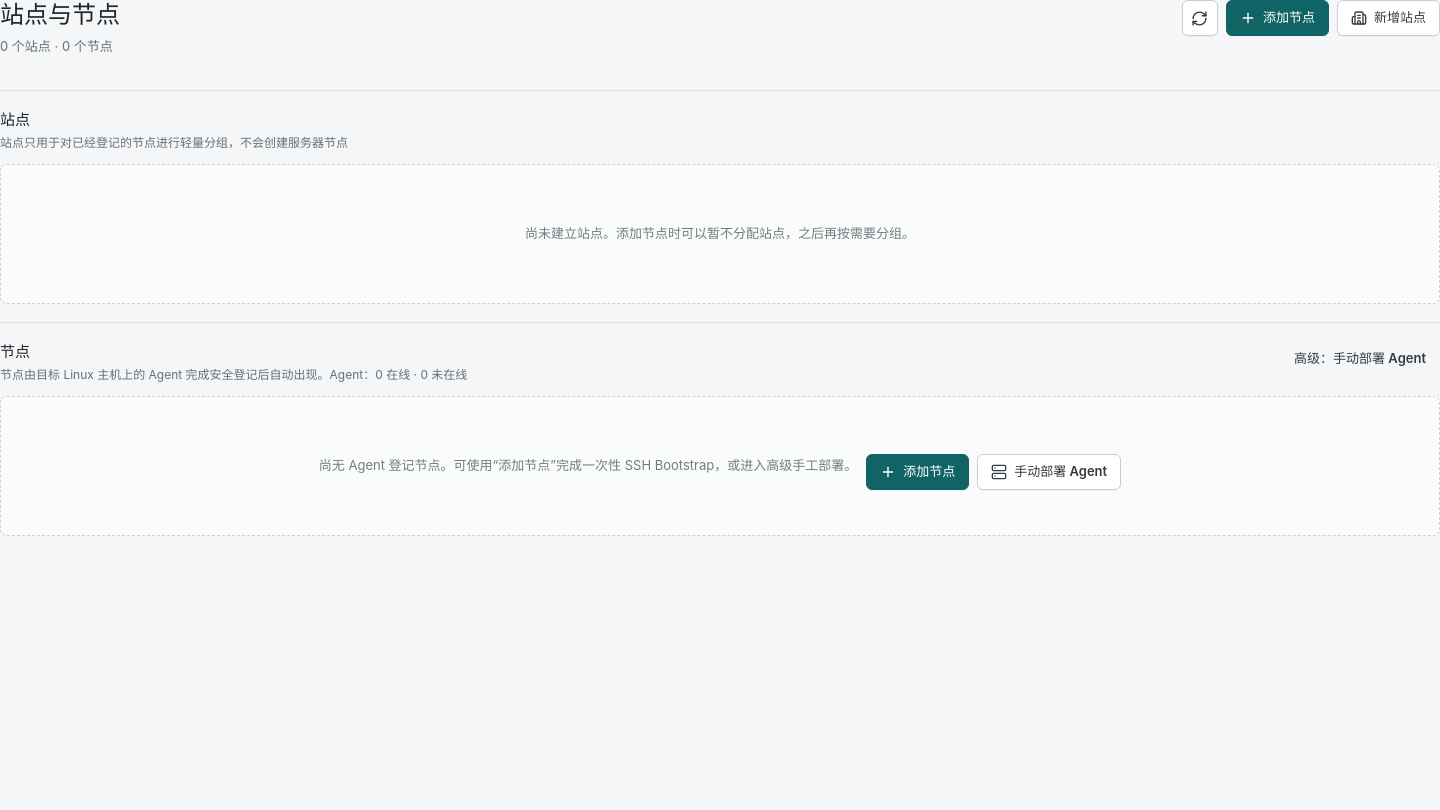
Test: NodesPage node onboarding › uses Add Node as the primary bootstrap path while preserving manual deployment
Expected: the text "尚无 Agent 登记节点。可使用“添加节点”完成一次性 SSH Bootstrap，或进入高级手工部署。" is shown, x1=319 y1=456 x2=857 y2=476
Step 1. Click the button "添加节点" in the row of "站点与节点" → (1278, 18), box x1=1226 y1=0 x2=1329 y2=36
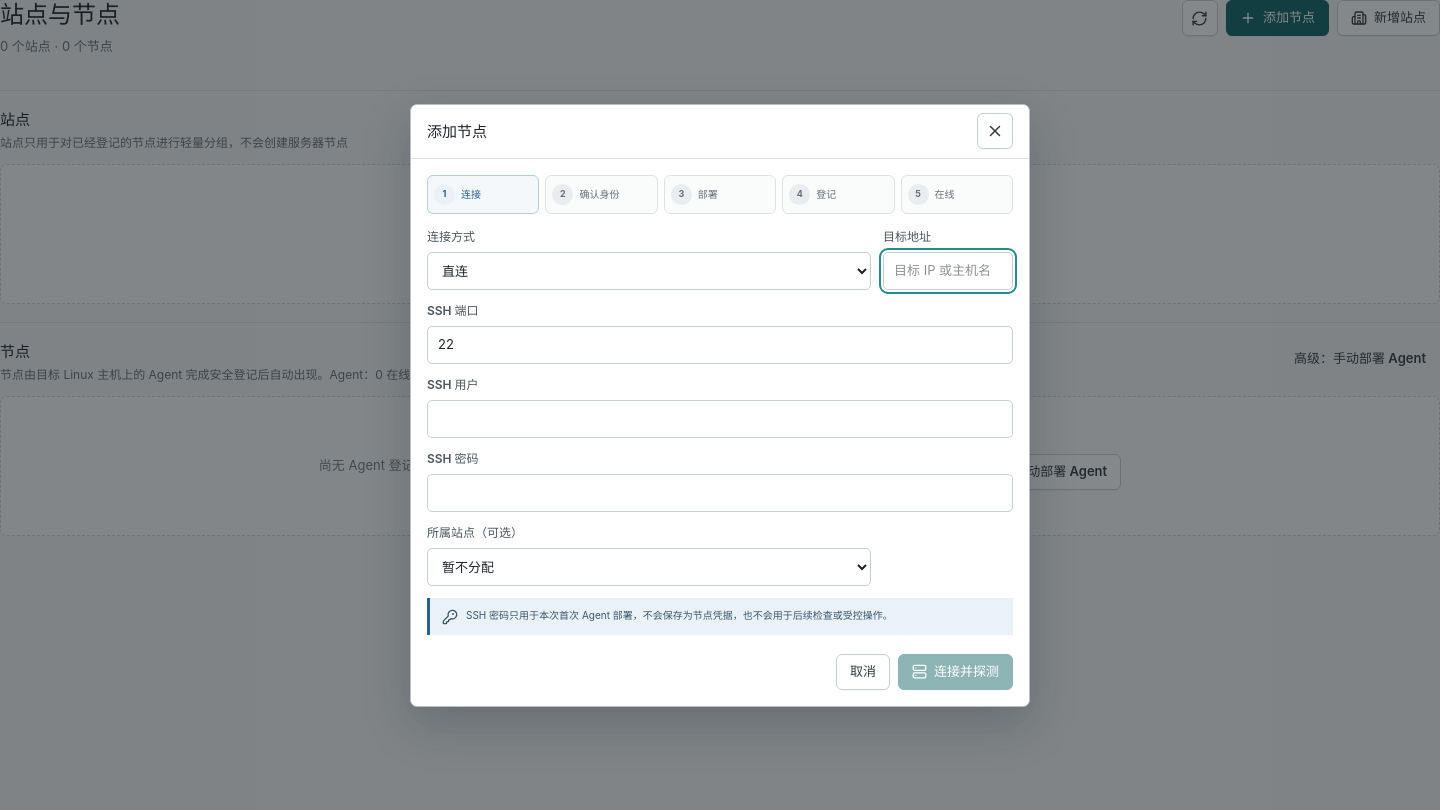
Now the dialog "添加节点" is shown, box x1=410 y1=104 x2=1030 y2=706
